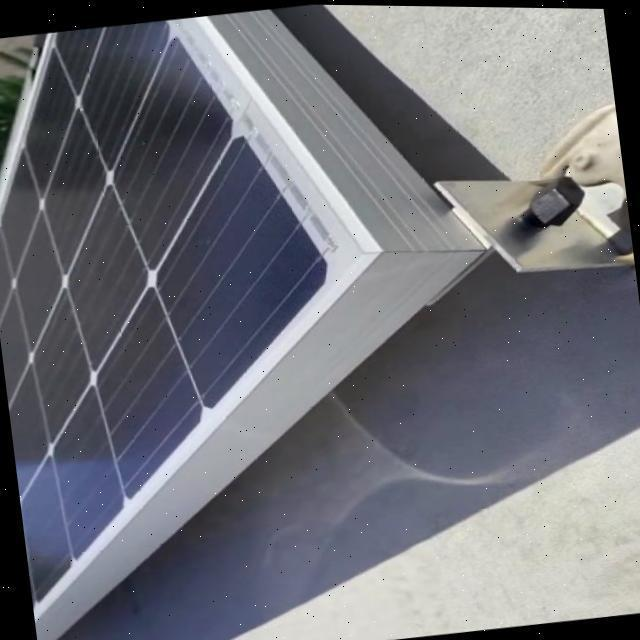Normal Solar Panel: (0, 0, 427, 626)
